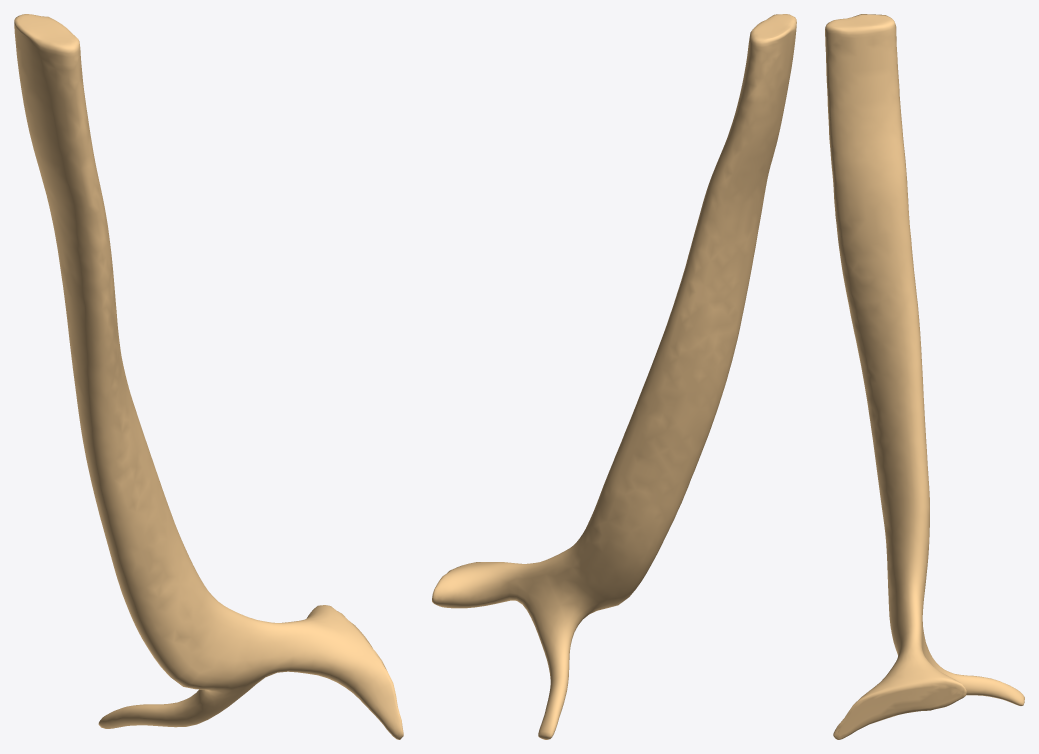
3 renders of one model, left to right at view 1: azimuth 30°, elevation 25°; view 2: azimuth 150°, elevation 25°; view 3: azimuth 270°, elevation 25°, orthographic. The views are drawn at different scales.
Visible parts, largest first — view 1: N_C8.obj; view 2: N_C8.obj; view 3: N_C8.obj.
Part boxes in pixels (x1,y1,x2,y2): N_C8.obj: (14, 14, 403, 739); N_C8.obj: (432, 14, 796, 739); N_C8.obj: (825, 14, 1024, 739).
Size of the model in its own units: 0.000839 by 0.0018 by 0.000526.
